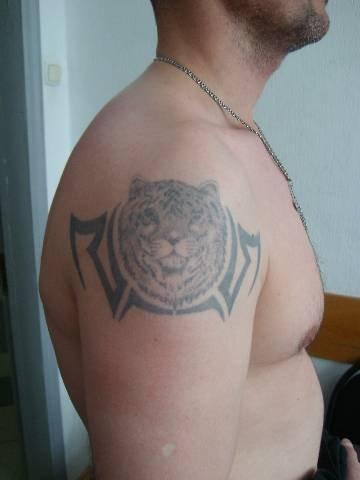tatu8_kot: (68, 166, 264, 329)
